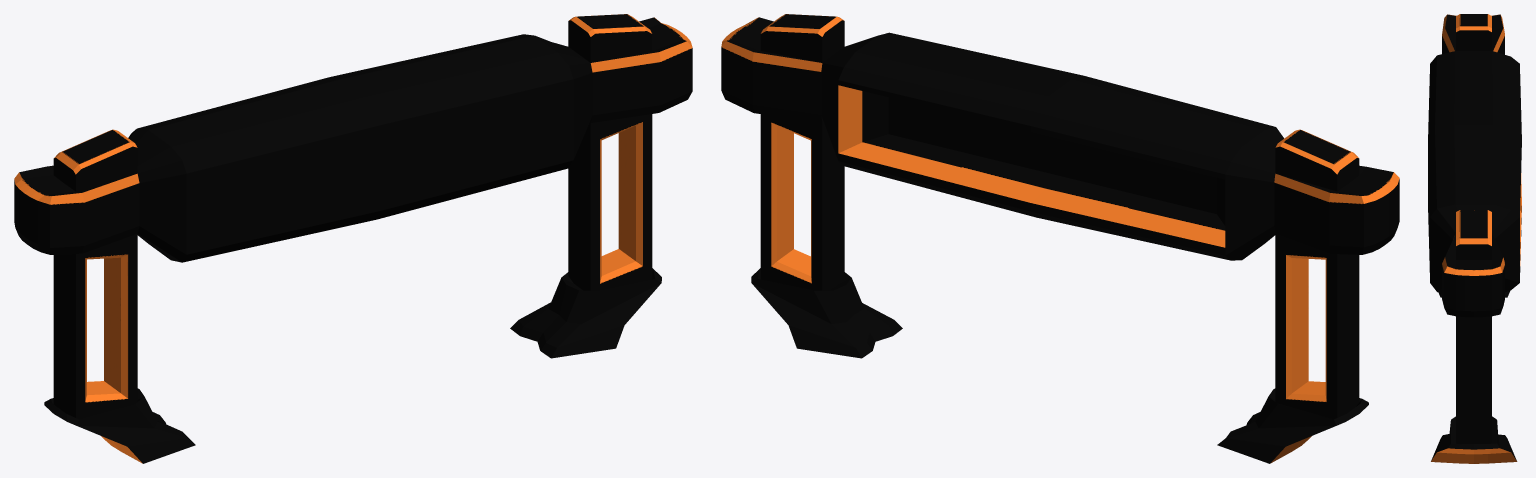
File: recognizer.gltf
3 views of the same model, side by side, from view 1: azimuth 30°, elevation 25°; view 2: azimuth 150°, elevation 25°; view 3: azimuth 270°, elevation 25° (orthographic). The views are drawn at different scales.
Visible parts, largest first — view 1: Cube; view 2: Cube; view 3: Cube.
Part boxes in pixels (bbox=[...]): Cube: bbox=[14, 14, 692, 463]; Cube: bbox=[721, 14, 1399, 463]; Cube: bbox=[1428, 14, 1521, 463].
Size of the model in its own units: 22.24 by 9.93 by 3.38.
1 material, 1 textured.
